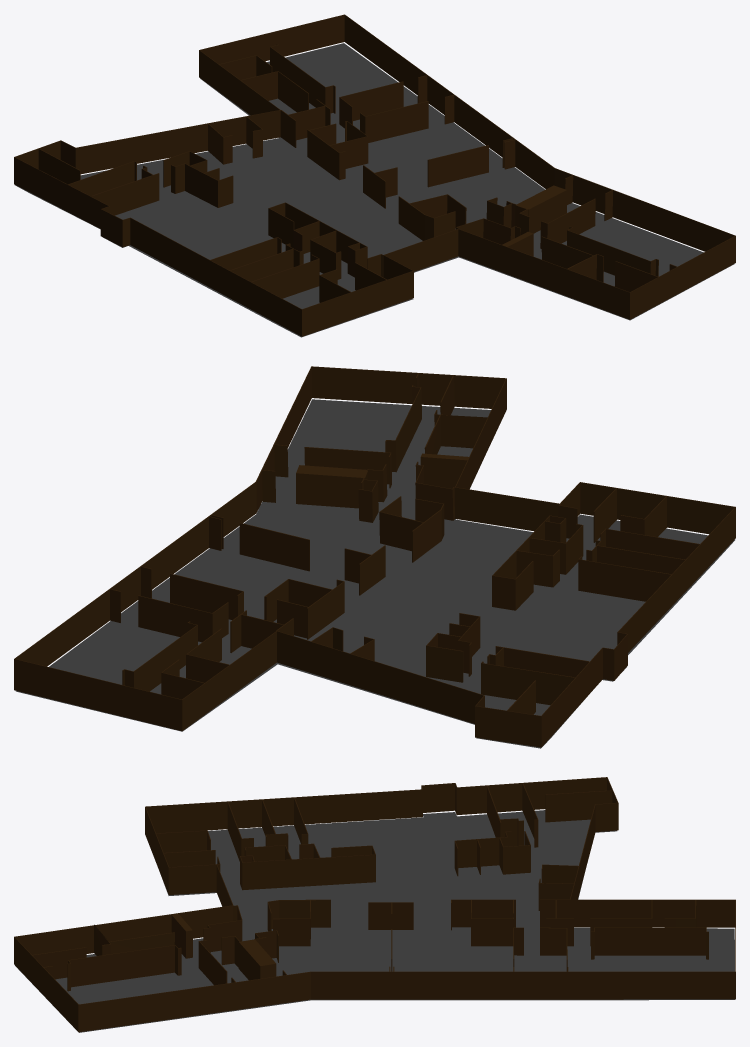
Rendered from 1stFLRCeta.FBX.
The picture shows the model from 3 angles, top to bottom: view 1: azimuth 30°, elevation 25°; view 2: azimuth 150°, elevation 25°; view 3: azimuth 270°, elevation 25°; orthographic projection. The views are drawn at different scales.
Visible parts, largest first — view 1: Plane002, Box001, Box002; view 2: Plane002, Box001, Box002, Box003; view 3: Plane002, Box001, Box002, Box003.
Boxes of the visible parts, bbox=[...] form: Plane002: bbox=[14, 14, 735, 336]; Box001: bbox=[15, 43, 734, 337]; Box002: bbox=[515, 185, 566, 233]; Plane002: bbox=[14, 366, 735, 747]; Box001: bbox=[16, 399, 735, 748]; Box002: bbox=[296, 465, 367, 508]; Box003: bbox=[420, 453, 468, 488]; Plane002: bbox=[14, 777, 735, 1032]; Box001: bbox=[15, 810, 735, 1032]; Box002: bbox=[238, 939, 276, 980]; Box003: bbox=[171, 913, 192, 958].
Bounding box in the file's own units: 15510 × 932 × 20774.
